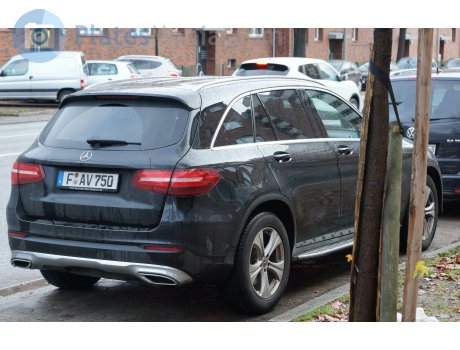License Plates: (61, 170, 126, 188)
